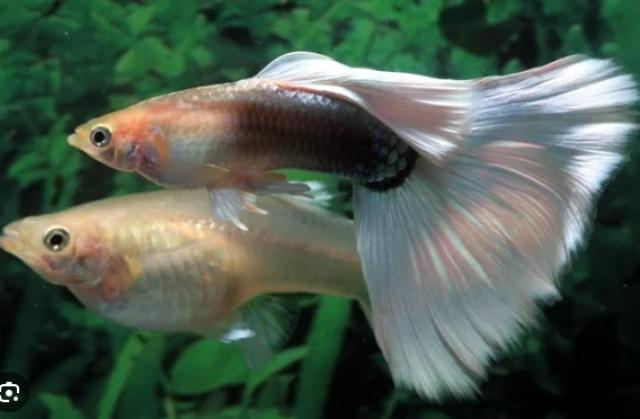Mulut: (50, 114, 114, 186), (0, 206, 36, 286)
Sirip Anal: (232, 274, 312, 342), (246, 156, 320, 204)
Sirip Ekor: (348, 46, 640, 408)
Sirip Perut: (194, 176, 266, 248), (190, 312, 266, 376)
Sirip Punggung: (242, 42, 472, 160)
